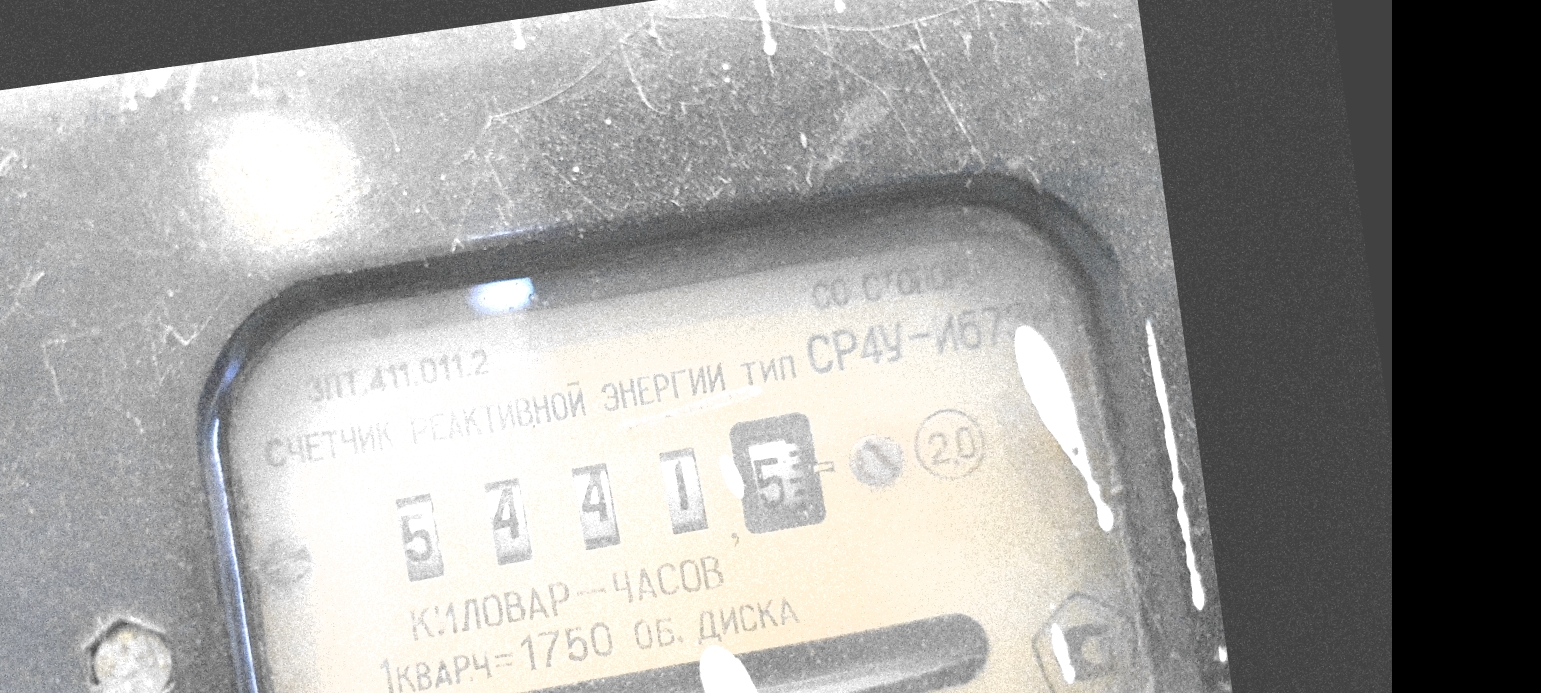1: (664, 455, 696, 516)
4: (570, 463, 616, 533), (484, 481, 527, 546)
5: (394, 506, 440, 568), (748, 449, 791, 515)
screen: (363, 385, 854, 613)
